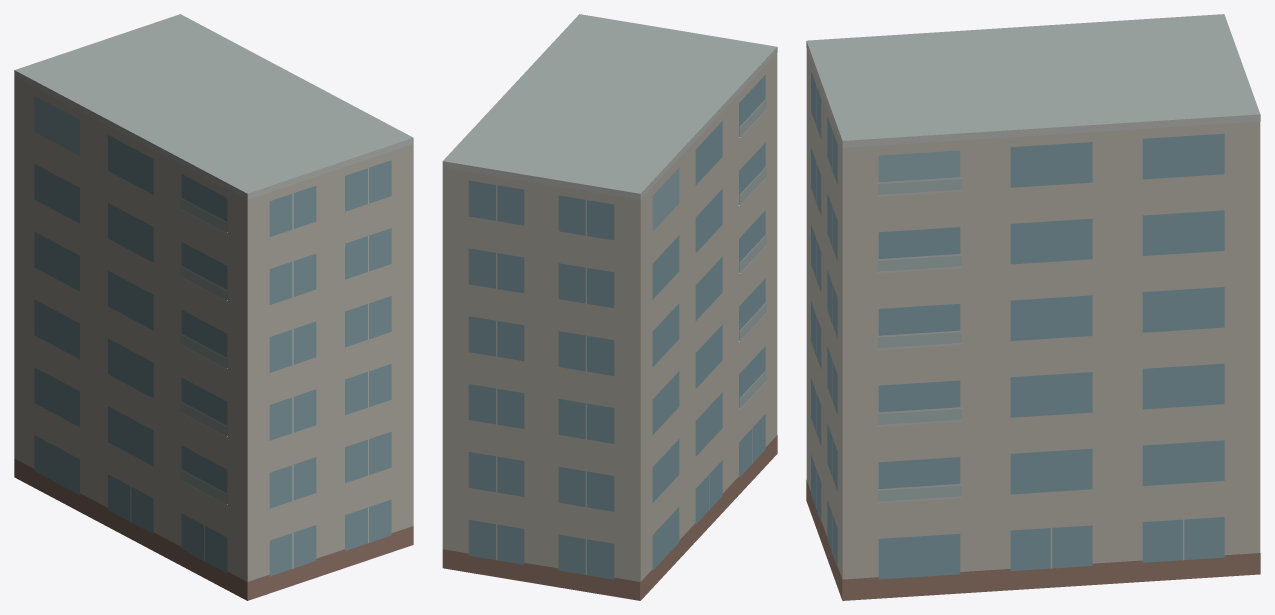
Rendered from survey-upis-32954138.glb.
The picture shows the model from 3 angles, left to right: view 1: azimuth 30°, elevation 25°; view 2: azimuth 150°, elevation 25°; view 3: azimuth 270°, elevation 25°; orthographic projection. The views are drawn at different scales.
Visible parts, largest first — view 1: survey-upis-32954138.tmp; view 2: survey-upis-32954138.tmp; view 3: survey-upis-32954138.tmp.
Part boxes in pixels (bbox=[...]): survey-upis-32954138.tmp: bbox=[14, 14, 413, 600]; survey-upis-32954138.tmp: bbox=[442, 14, 777, 600]; survey-upis-32954138.tmp: bbox=[806, 14, 1260, 600].
Bounding box in the file's own units: 9.62 × 16.25 × 14.55.
